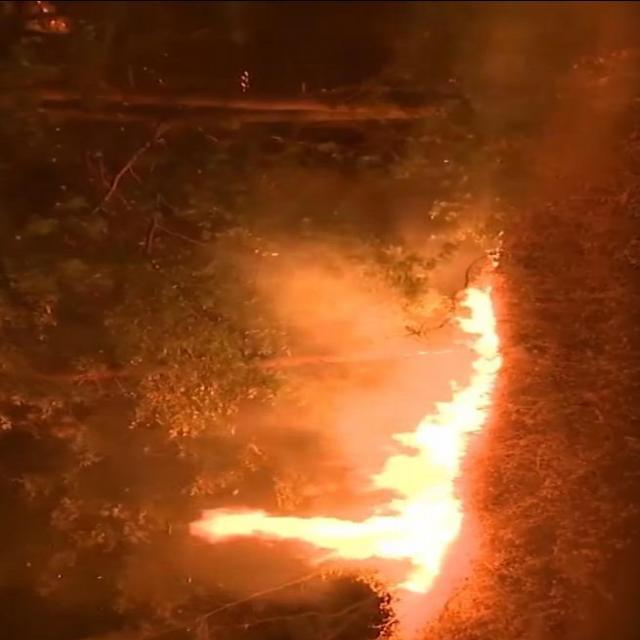Fire: (182, 284, 521, 598)
